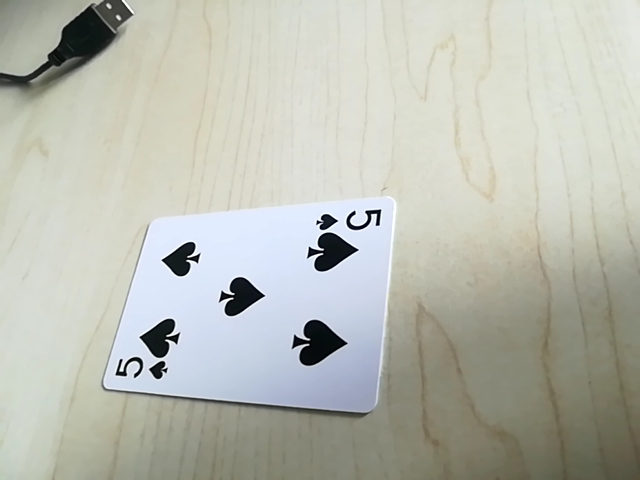ht 5: (106, 352, 175, 387), (314, 202, 384, 233)
